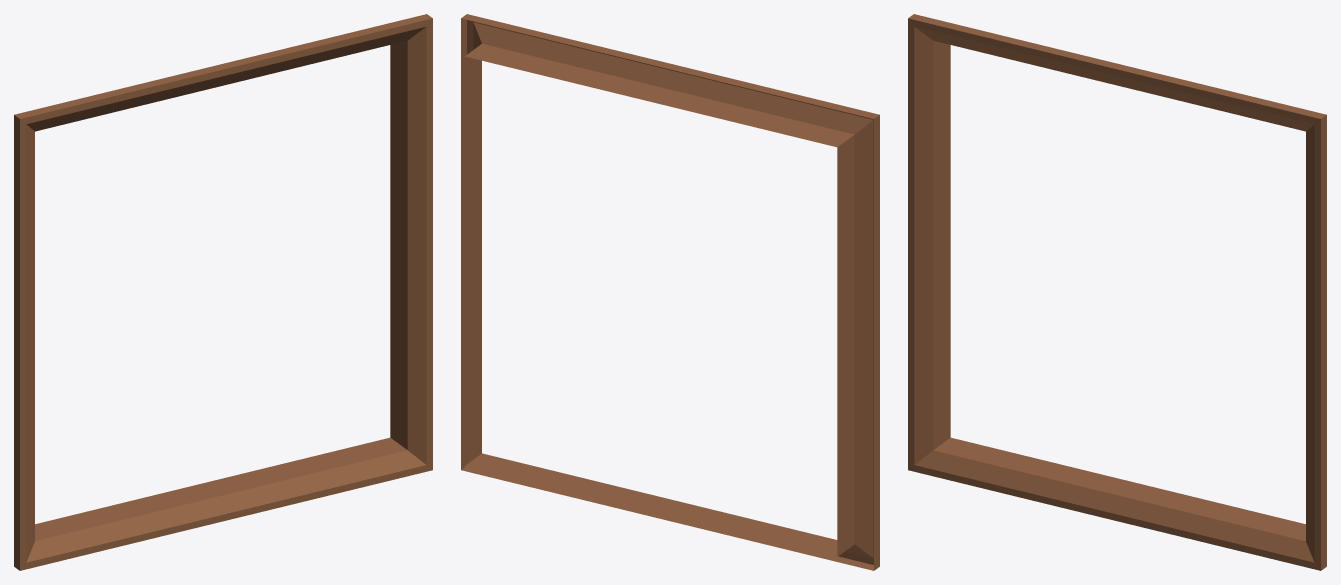
The model's file is DBK_WinBig_Trim_C_Full.fbx.
3 renders of one model, left to right at view 1: azimuth 30°, elevation 25°; view 2: azimuth 150°, elevation 25°; view 3: azimuth 330°, elevation 25°, orthographic.
Parts seen in each view (by area): view 1: DBK_WinBig_Trim_C_Full; view 2: DBK_WinBig_Trim_C_Full; view 3: DBK_WinBig_Trim_C_Full.
Part boxes in pixels (box(x1,y1,x2,y2)): DBK_WinBig_Trim_C_Full: box(14, 14, 432, 570); DBK_WinBig_Trim_C_Full: box(461, 14, 879, 570); DBK_WinBig_Trim_C_Full: box(908, 14, 1326, 570).
Size of the model in its own units: 220 by 230 by 20.75.
